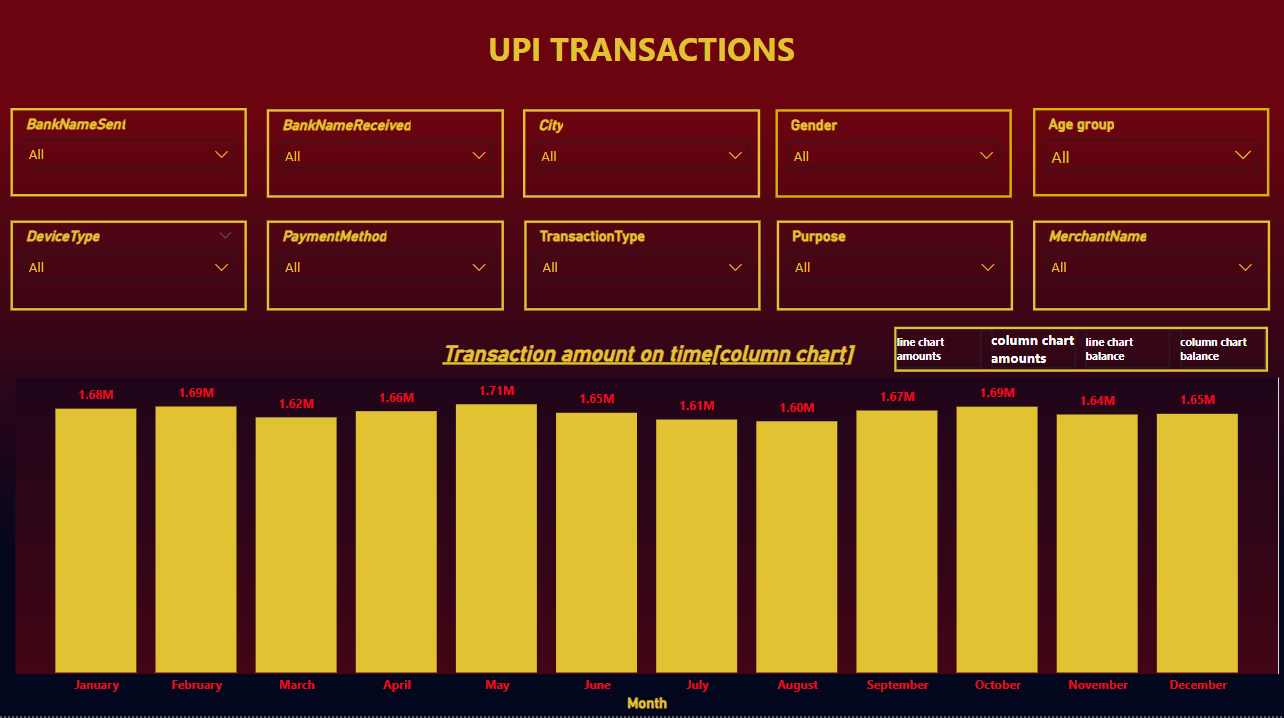

The dashboard page shown, as its layout file describes it:
{"tool":"powerbi","page":{"name":"Page 1","canvas":[1280,720],"ordinal":0},"visuals":[{"type":"slicer","fields":{"Values":["Sheet1.BankNameSent"]},"box":[12.4,114.4,235.1,88.3],"z":0},{"type":"slicer","fields":{"Values":["Sheet1.BankNameReceived"]},"box":[267.5,115.7,236.4,88.3],"z":1000},{"type":"slicer","fields":{"Values":["Sheet1.City"]},"box":[522.5,115.7,236.4,88.3],"z":2000},{"type":"slicer","fields":{"Values":["Sheet1.Gender"]},"box":[773.7,115.7,235.1,88.3],"z":3000},{"type":"slicer","fields":{"Values":["Sheet1.DeviceType"]},"box":[12.4,226.4,235.1,89.6],"z":4000},{"type":"slicer","fields":{"Values":["Sheet1.PaymentMethod"]},"box":[267.5,226.4,236.4,89.6],"z":5000},{"type":"slicer","fields":{"Values":["Sheet1.Purpose"]},"box":[775,226.4,235.1,89.6],"z":6000},{"type":"slicer","fields":{"Values":["Sheet1.MerchantName"]},"box":[1030,226.4,236.4,89.6],"z":7000},{"type":"textbox","box":[0,16.2,1280,70.9],"z":8000},{"type":"slicer","fields":{"Values":["Sheet1.Age group"]},"box":[1030,114.4,235.1,88.3],"z":10000},{"type":"bookmarkNavigator","box":[891.8,332.5,372.3,45],"z":12000},{"type":"columnChart","title":"Balance by month[column chart]","fields":{"Category":["Sheet1.TransactionDate.Variation.Date Hierarchy.Month"],"Y":["Sum(Sheet1.Amount)"]},"box":[12.4,345.8,1267.6,374.4],"z":14000},{"type":"slicer","fields":{"Values":["Sheet1.TransactionType"]},"box":[523.7,226.4,235.1,89.6],"z":15000}]}

Visuals, with their boxes in screenshot pixels (x1, y1, x2, y2), scaled from the page's 1280x720 canvas onto the 1284x718 screenshot:
slicer - Sheet1.BankNameSent: l=12, t=114, r=248, b=202
slicer - Sheet1.BankNameReceived: l=268, t=115, r=505, b=203
slicer - Sheet1.City: l=524, t=115, r=761, b=203
slicer - Sheet1.Gender: l=776, t=115, r=1012, b=203
slicer - Sheet1.DeviceType: l=12, t=226, r=248, b=315
slicer - Sheet1.PaymentMethod: l=268, t=226, r=505, b=315
slicer - Sheet1.Purpose: l=777, t=226, r=1013, b=315
slicer - Sheet1.MerchantName: l=1033, t=226, r=1270, b=315
textbox: l=0, t=16, r=1283, b=87
slicer - Sheet1.Age group: l=1033, t=114, r=1269, b=202
bookmarkNavigator: l=895, t=332, r=1268, b=376
"Balance by month[column chart]" columnChart: l=12, t=345, r=1283, b=717
slicer - Sheet1.TransactionType: l=525, t=226, r=761, b=315
